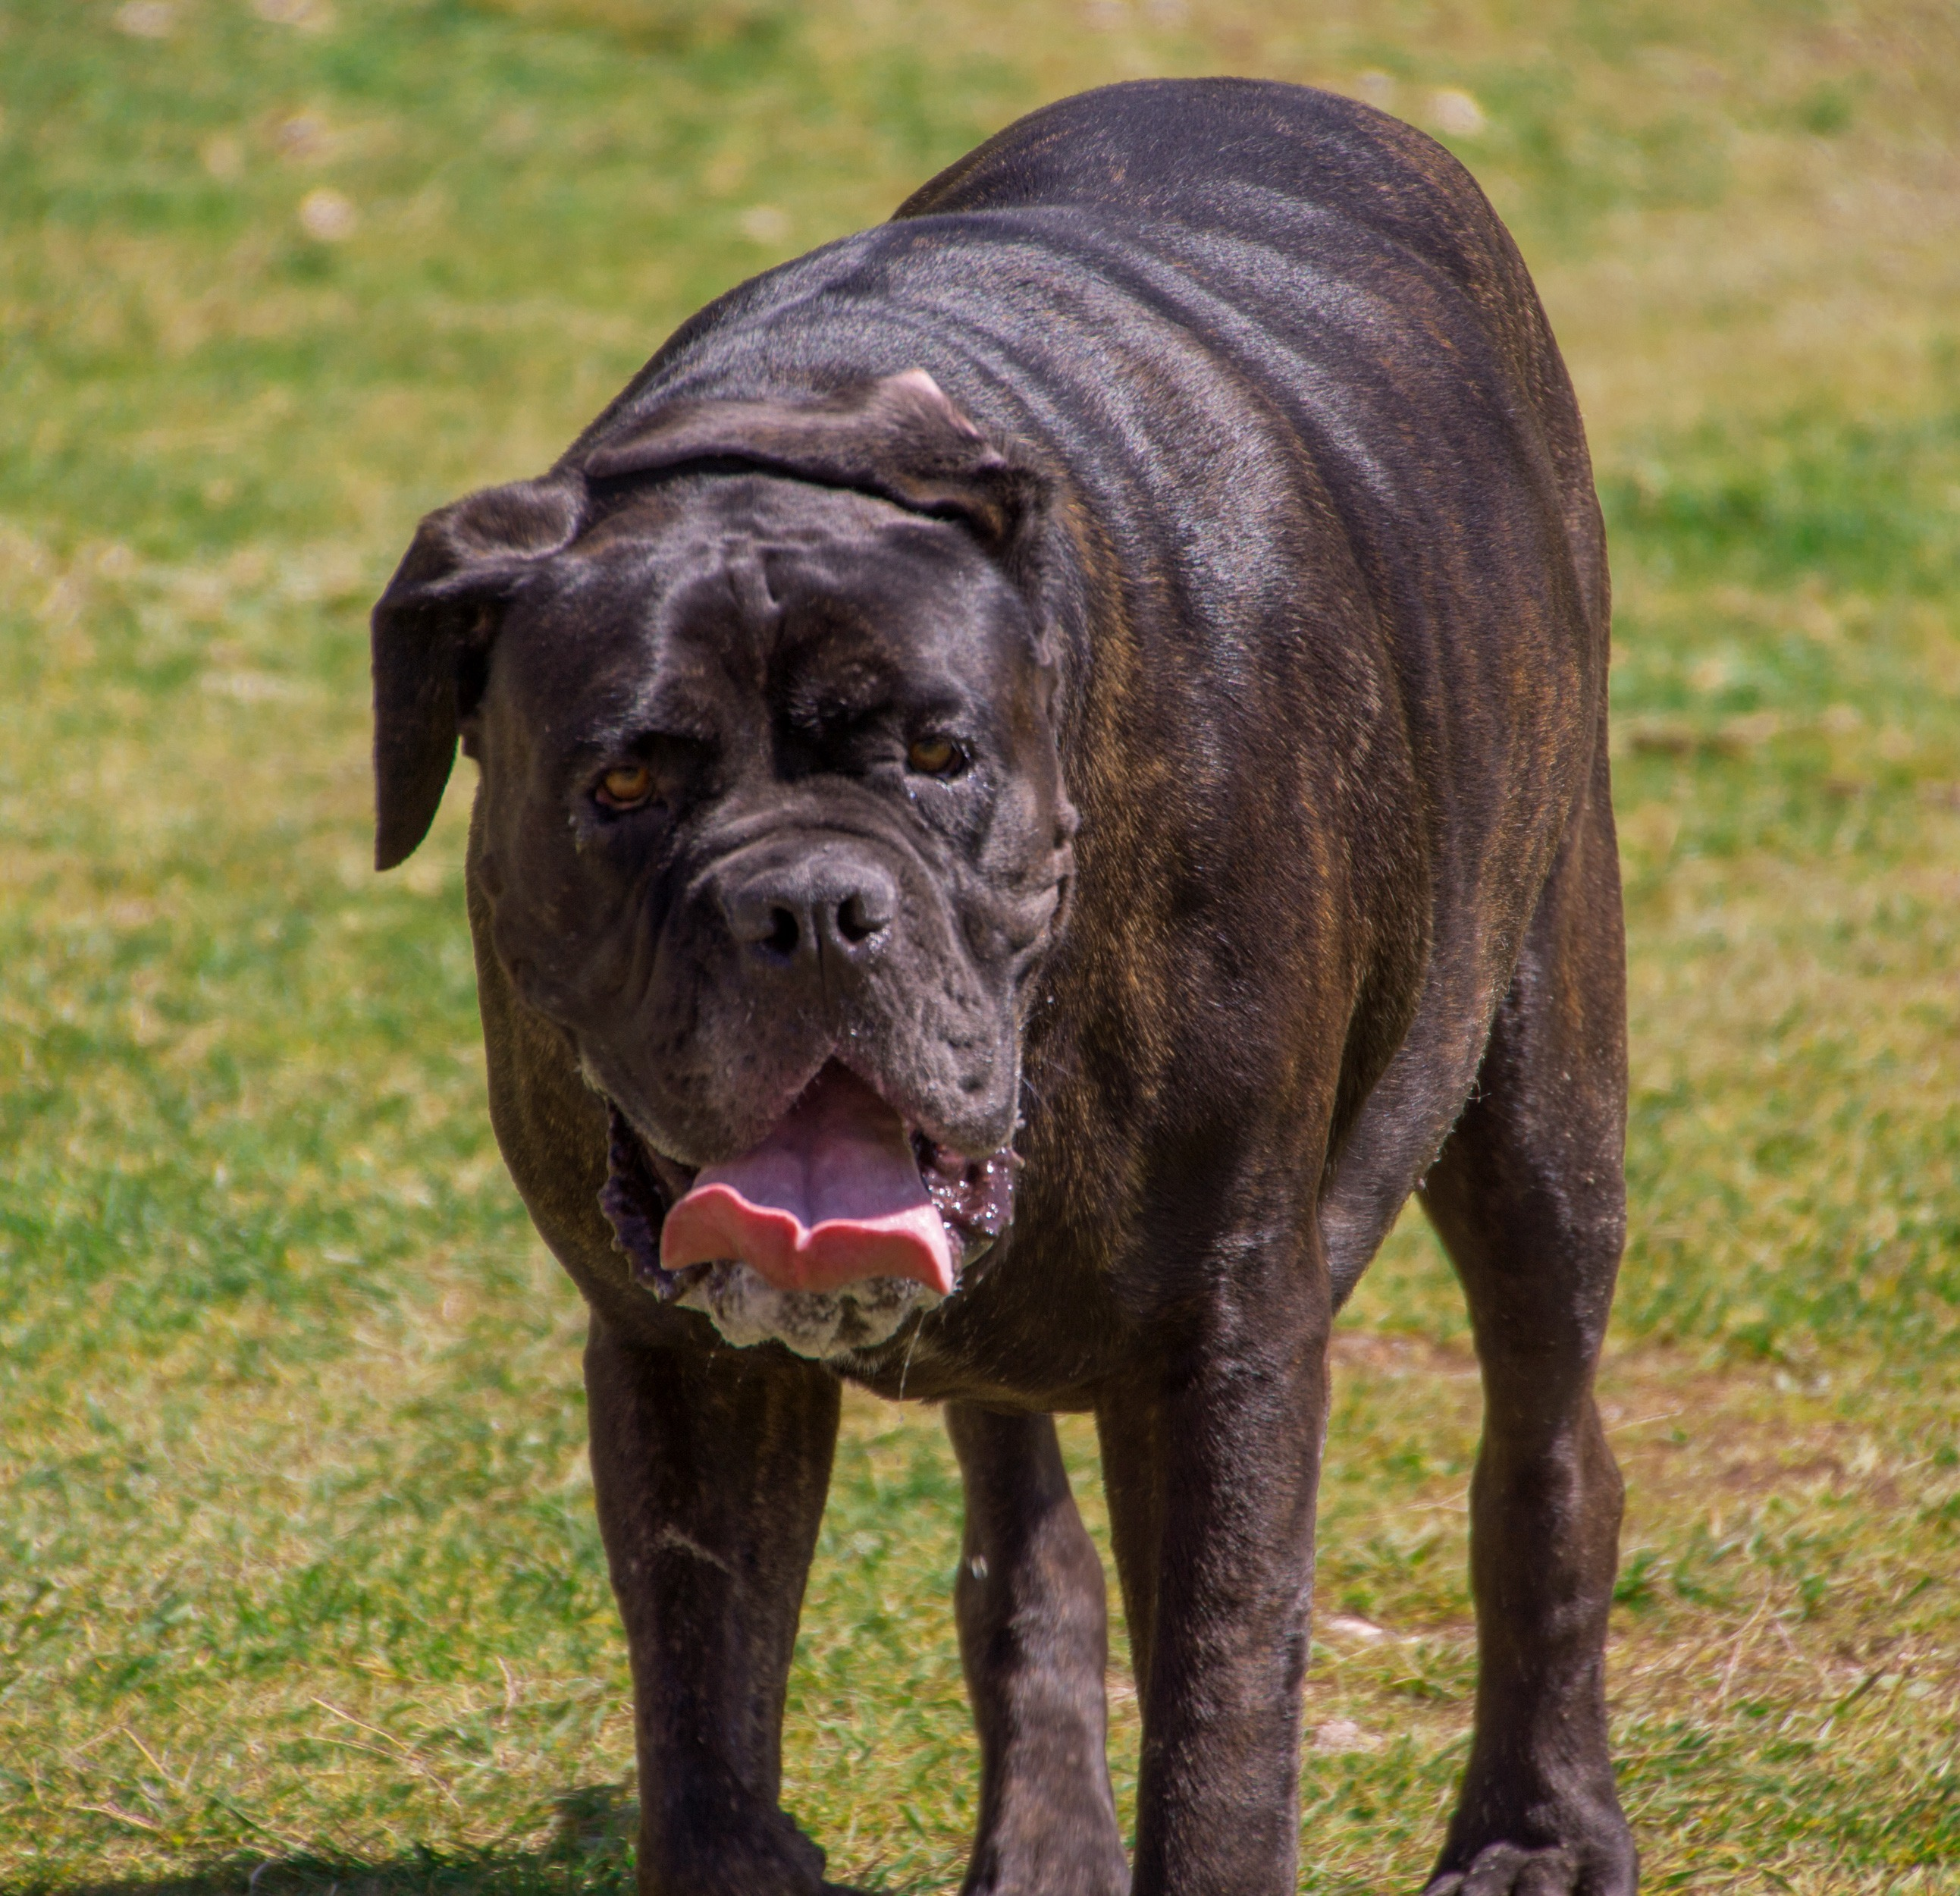neapolitan_mastiff: (371, 74, 1643, 1896)
